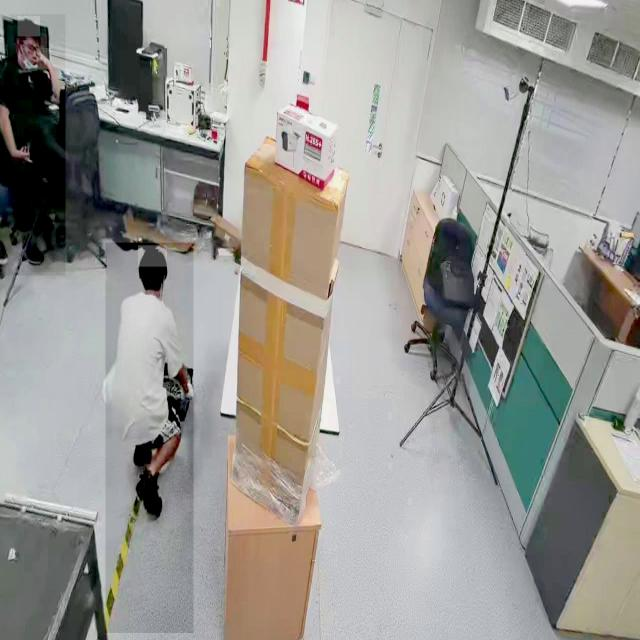hand_noglove: (17, 142, 33, 164), (37, 48, 51, 70)
head_nohelmet: (138, 245, 168, 268), (18, 16, 40, 37)
person: (106, 242, 194, 634), (0, 15, 66, 276)
shoes: (132, 462, 166, 526)
